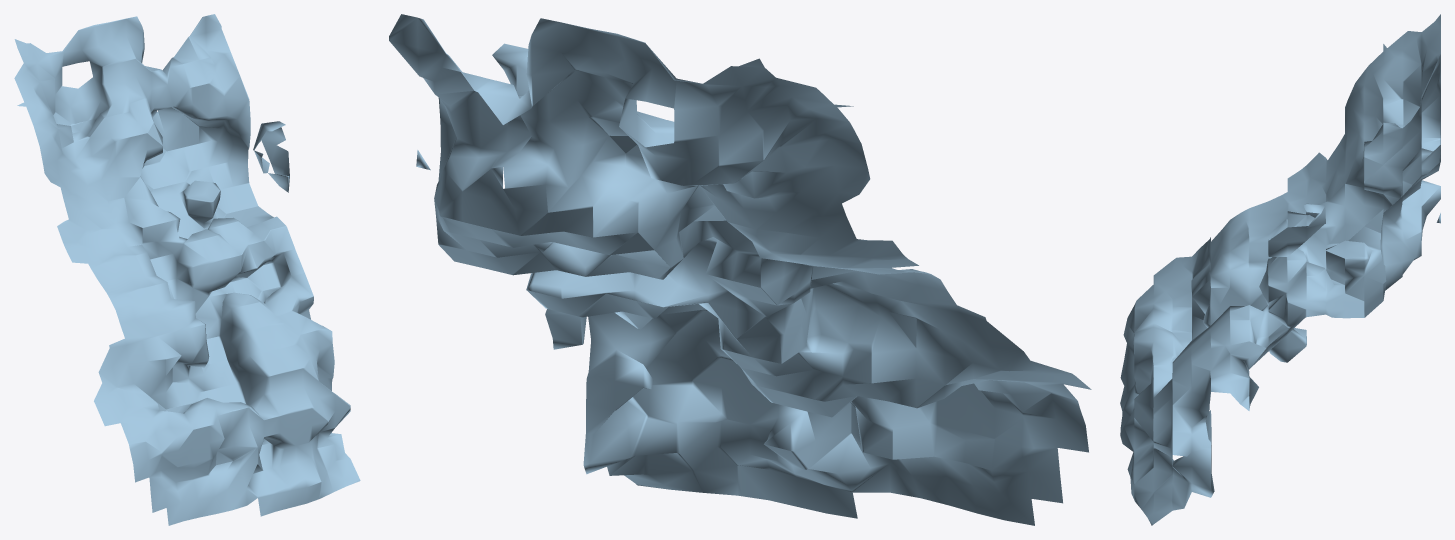
The model's file is tile_-1_-1.glb.
3 renders of one model, left to right at view 1: azimuth 30°, elevation 25°; view 2: azimuth 150°, elevation 25°; view 3: azimuth 270°, elevation 25°, orthographic. The views are drawn at different scales.
Parts seen in each view (by area): view 1: mesh; view 2: mesh; view 3: mesh.
Boxes of the visible parts, x1,y1,x2,y2 form: mesh: (14,14,360,525); mesh: (389,14,1091,525); mesh: (1120,14,1440,525).
Bounding box in the file's own units: 16 × 23.44 × 16.75.
